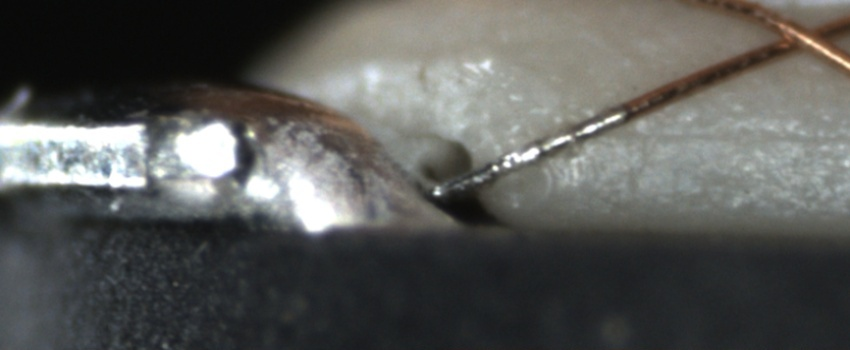CL: (755, 5, 847, 64)
DL: (589, 103, 850, 166)
TS: (430, 107, 628, 195)
